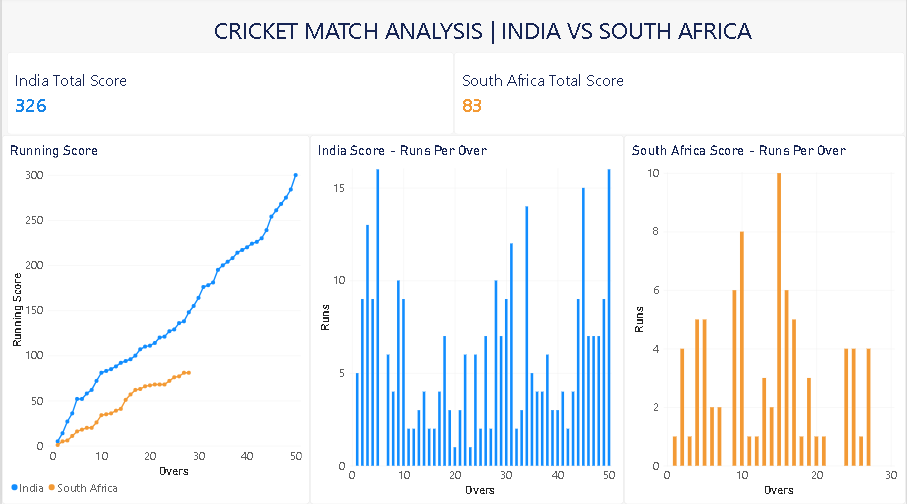

This screenshot's page, from the dashboard's own definition file:
{"tool":"powerbi","page":{"name":"India VS South Africa Match Analysis","canvas":[1920,1080],"ordinal":1},"visuals":[{"type":"cardVisual","fields":{"Data":["Sum(MATCH_FACT.TOTAL_SCORE_BY_TEAM_A)"]},"box":[10.7,118,950.3,175.9],"z":0},{"type":"cardVisual","fields":{"Data":["Sum(MATCH_FACT.TOTAL_SCORE_BY_TEAM_B)"]},"box":[961.1,118,958.9,175.9],"z":1000},{"type":"lineChart","title":"Running Score","fields":{"Category":["DELIVERY_FACT.OVER"],"Series":["TEAM_DIM.TEAM_NAME"],"Y":["DELIVERY_FACT.Sum of RUNS running total in OVER 2"]},"box":[0,293.9,654.3,785.2],"z":2000},{"type":"clusteredColumnChart","title":"India Score - Runs Per Over","fields":{"Category":["DELIVERY_FACT.OVER"],"Y":["Sum(DELIVERY_FACT.RUNS)"]},"box":[654.3,293.9,667.2,785.2],"z":3000},{"type":"clusteredColumnChart","title":"South Africa Score - Runs Per Over","fields":{"Category":["DELIVERY_FACT.OVER"],"Y":["Sum(DELIVERY_FACT.RUNS)"]},"box":[1321.5,293.9,598.5,785.2],"z":4000},{"type":"textbox","box":[10.7,0,1643.3,118],"z":5000}]}

Visuals, with their boxes in screenshot pixels (x1, y1, x2, y2), scaled from the page's 1920x1080 canvas onto the 907x504 screenshot:
cardVisual - Sum(MATCH_FACT.TOTAL_SCORE_BY_TEAM_A): (left=5, top=55, right=454, bottom=137)
cardVisual - Sum(MATCH_FACT.TOTAL_SCORE_BY_TEAM_B): (left=454, top=55, right=906, bottom=137)
"Running Score" lineChart: (left=0, top=137, right=309, bottom=503)
"India Score - Runs Per Over" clusteredColumnChart: (left=309, top=137, right=624, bottom=503)
"South Africa Score - Runs Per Over" clusteredColumnChart: (left=624, top=137, right=906, bottom=503)
textbox: (left=5, top=0, right=781, bottom=55)
